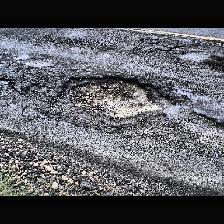pothole: (51, 73, 175, 121)
